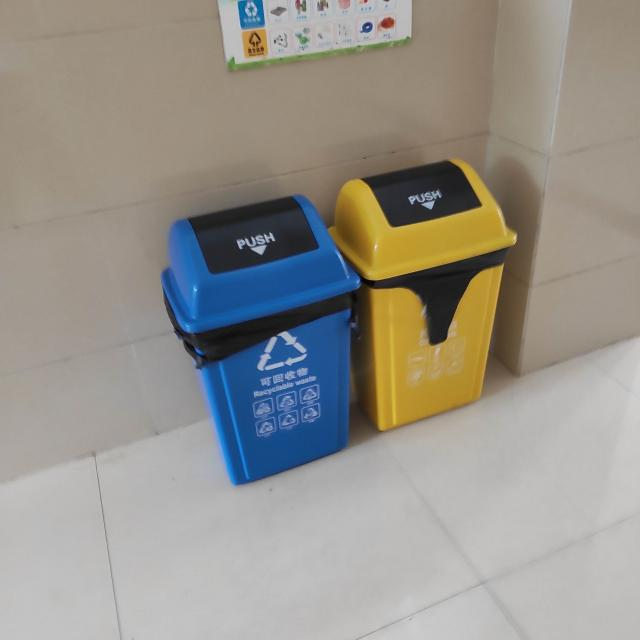ash bin: (160, 192, 360, 486), (326, 157, 520, 430)
